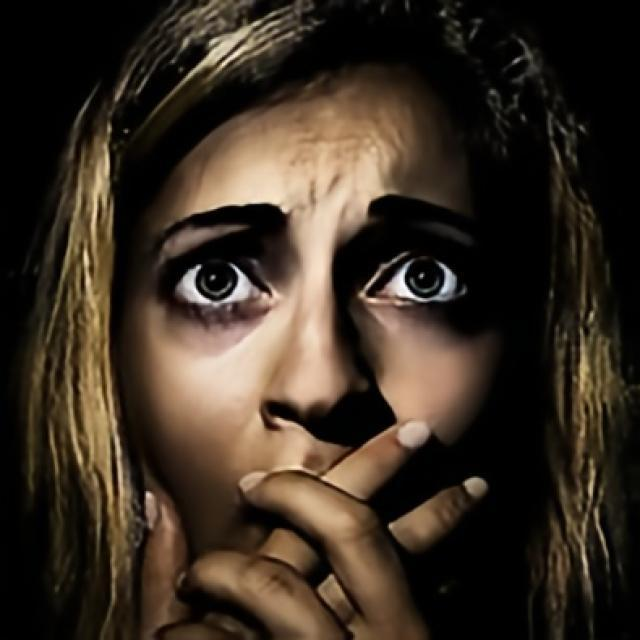fear: (115, 54, 525, 594)
